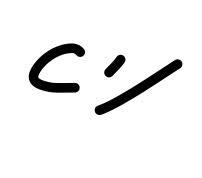i: (99, 46, 132, 86)
